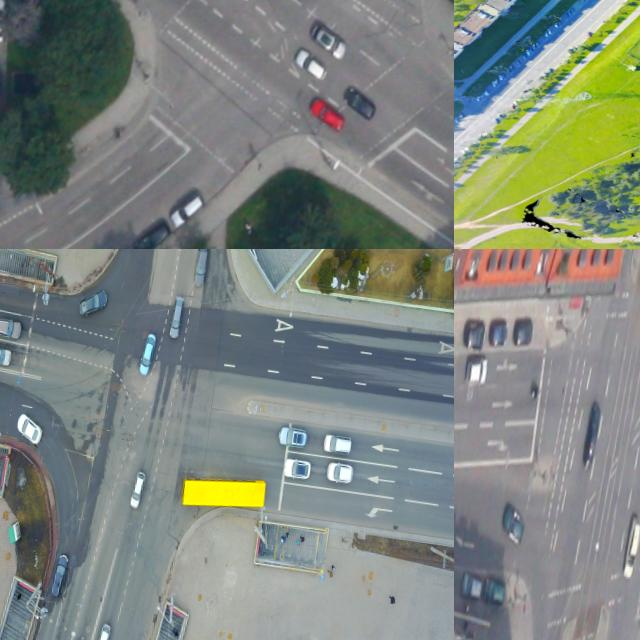UAI: (307, 19, 352, 62), (581, 398, 604, 471), (307, 95, 350, 134), (169, 190, 206, 232), (132, 214, 175, 249), (341, 85, 380, 122), (293, 48, 332, 84), (500, 502, 528, 547), (78, 285, 112, 321), (14, 412, 47, 449), (49, 551, 71, 600), (623, 517, 640, 579), (277, 424, 310, 453), (281, 456, 312, 486), (138, 331, 157, 379), (191, 249, 212, 291), (322, 431, 354, 458), (168, 295, 187, 340), (129, 468, 147, 512), (466, 355, 490, 387), (325, 461, 354, 486), (482, 577, 506, 607), (512, 316, 535, 347), (461, 572, 484, 600), (464, 321, 486, 349), (0, 315, 23, 341), (489, 319, 509, 347), (0, 0, 9, 45), (92, 622, 113, 640), (0, 346, 12, 368), (0, 167, 5, 215)
car: (180, 466, 270, 518)
